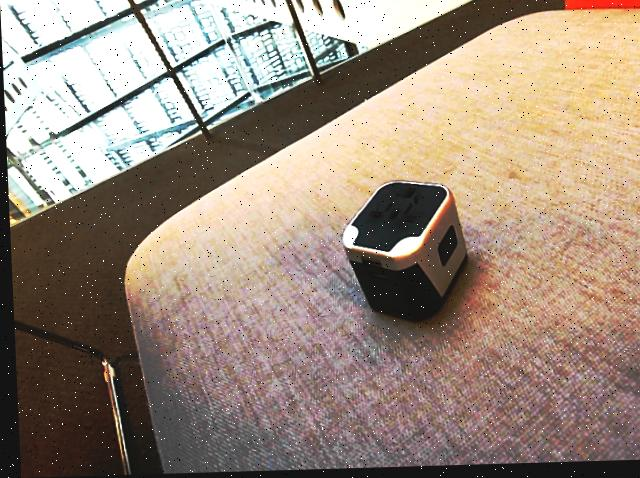adapter: (338, 180, 467, 326)
